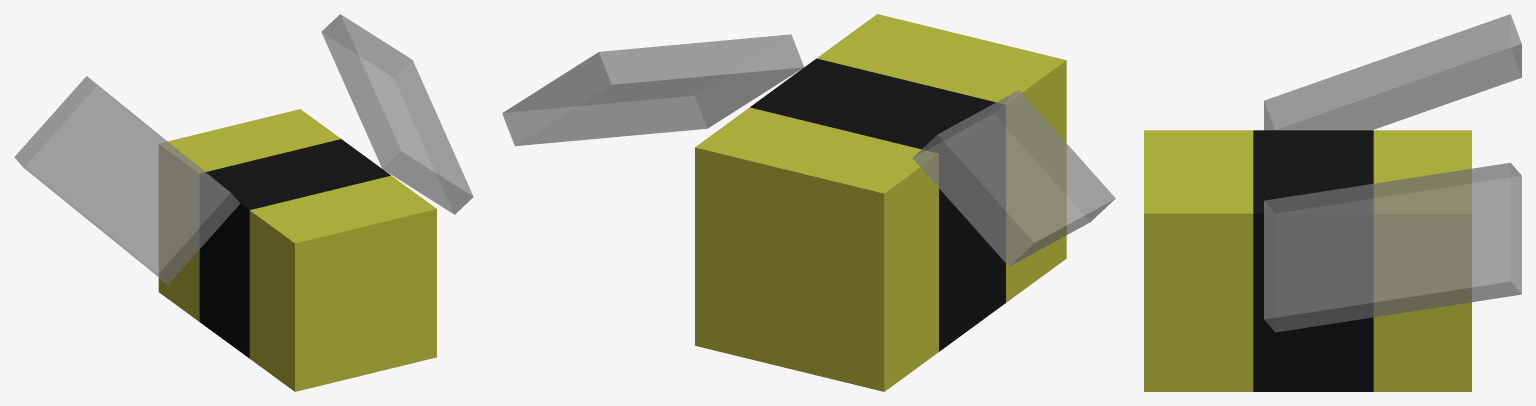
The model's file is BeeA.FBX.
The picture shows the model from 3 angles, left to right: view 1: azimuth 30°, elevation 25°; view 2: azimuth 150°, elevation 25°; view 3: azimuth 270°, elevation 25°; orthographic projection. The views are drawn at different scales.
Visible parts, largest first — view 1: Body, WingA2, WingA1; view 2: Body, WingA1, WingA2; view 3: Body, WingA1, WingA2.
Boxes of the visible parts, box(x1,y1,x2,y2) form: Body: box(158, 109, 436, 391); WingA2: box(14, 76, 240, 284); WingA1: box(321, 14, 473, 214); Body: box(695, 14, 1066, 391); WingA1: box(502, 34, 803, 146); WingA2: box(912, 90, 1115, 266); Body: box(1144, 130, 1471, 391); WingA1: box(1264, 162, 1521, 332); WingA2: box(1264, 14, 1521, 130).
Size of the model in its own units: 42.13 by 22.04 by 28.79.
